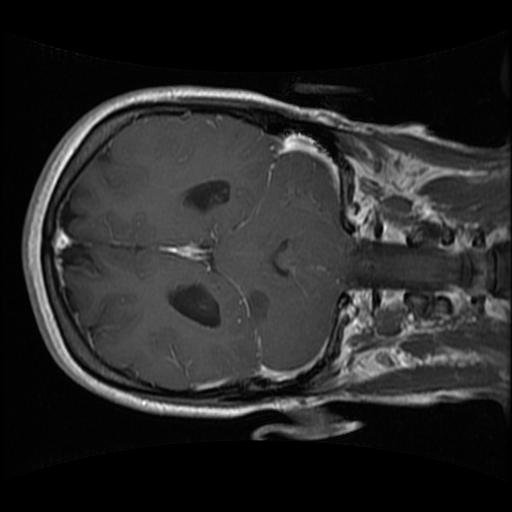glioma: (241, 286, 270, 328)
